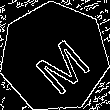M_NW: (21, 23, 88, 91)
